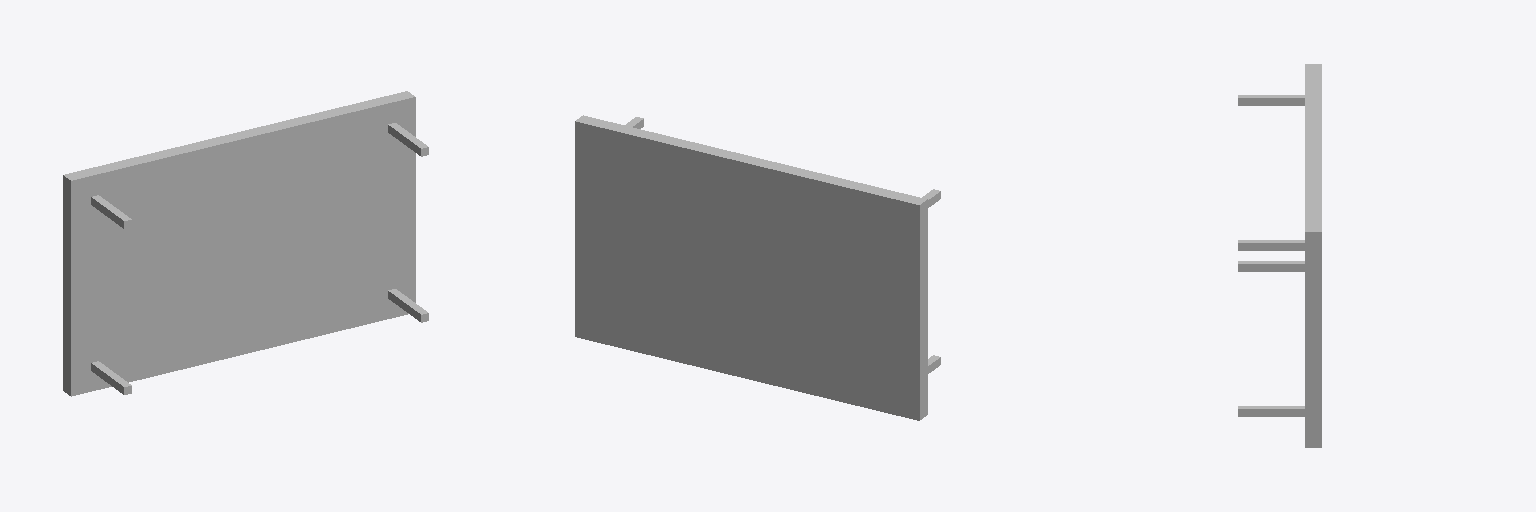
The model's file is random_table90.obj.
3 renders of one model, left to right at view 1: azimuth 30°, elevation 25°; view 2: azimuth 150°, elevation 25°; view 3: azimuth 270°, elevation 25°, orthographic.
Parts seen in each view (by area): view 1: Table_Cube.1515, TableLeg0_Cube.1516, TableLeg3_Cube.1519, TableLeg1_Cube.1517, TableLeg2_Cube.1518; view 2: Table_Cube.1515; view 3: Table_Cube.1515, TableLeg0_Cube.1516, TableLeg1_Cube.1517, TableLeg2_Cube.1518, TableLeg3_Cube.1519.
Part boxes in pixels (left/top/right/bottom): Table_Cube.1515: left=63, top=91, right=415, bottom=396; TableLeg0_Cube.1516: left=388, top=123, right=428, bottom=156; TableLeg3_Cube.1519: left=91, top=361, right=131, bottom=394; TableLeg1_Cube.1517: left=91, top=195, right=131, bottom=228; TableLeg2_Cube.1518: left=388, top=289, right=428, bottom=322; Table_Cube.1515: left=575, top=115, right=927, bottom=420; Table_Cube.1515: left=1305, top=64, right=1321, bottom=447; TableLeg0_Cube.1516: left=1238, top=240, right=1304, bottom=250; TableLeg1_Cube.1517: left=1238, top=95, right=1304, bottom=105; TableLeg2_Cube.1518: left=1238, top=406, right=1304, bottom=416; TableLeg3_Cube.1519: left=1238, top=261, right=1304, bottom=271.
Bounding box in the file's own units: 13 × 7.78 × 2.71.